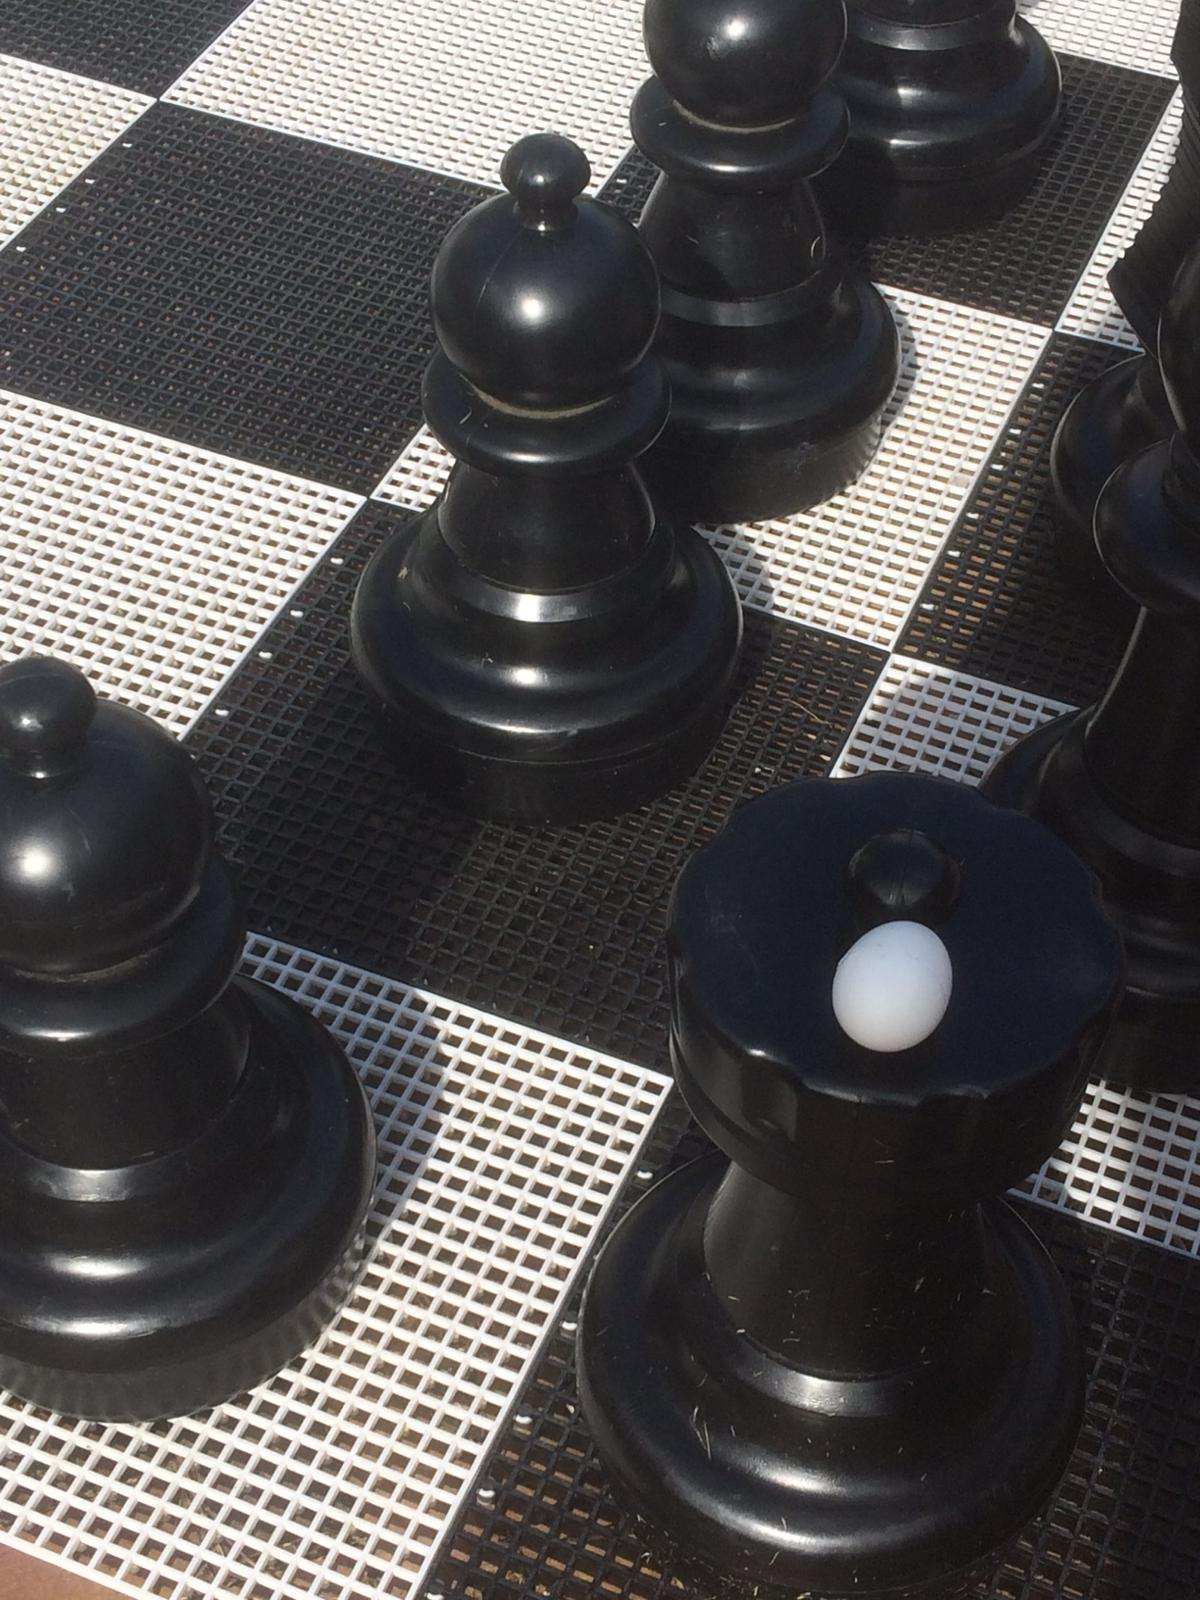egg: (821, 911, 962, 1058)
